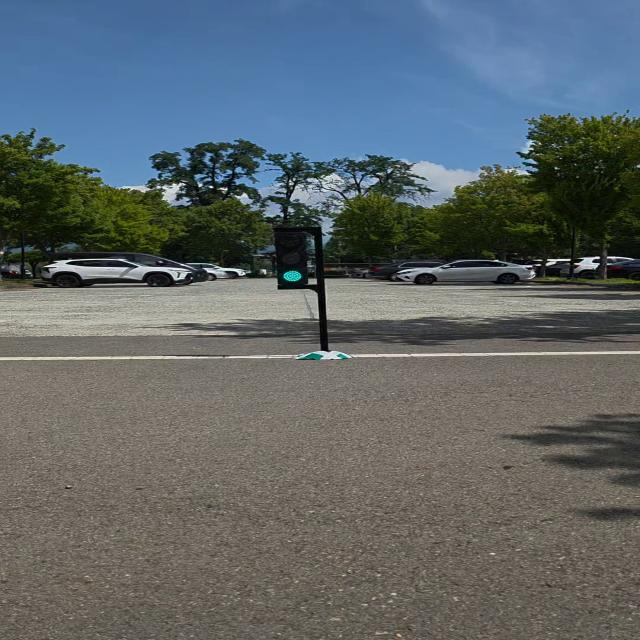green: (271, 228, 316, 290)
